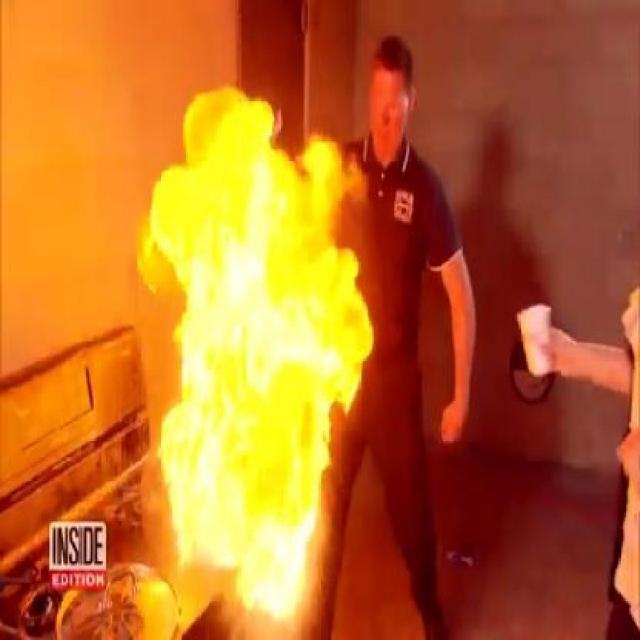fire: (142, 109, 362, 574)
